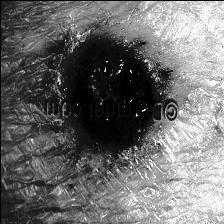Potentially Malignant Skin Tumors: (77, 43, 154, 148)
